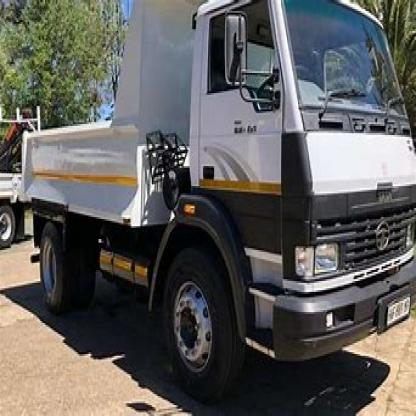dump_truck: (13, 7, 415, 394)
